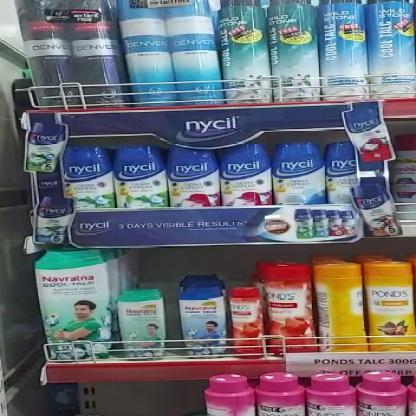Nycil Prickly Heat Powder: (166, 145, 223, 207), (276, 140, 328, 204), (221, 142, 271, 204), (64, 146, 113, 209), (114, 146, 162, 206), (324, 140, 360, 202)
